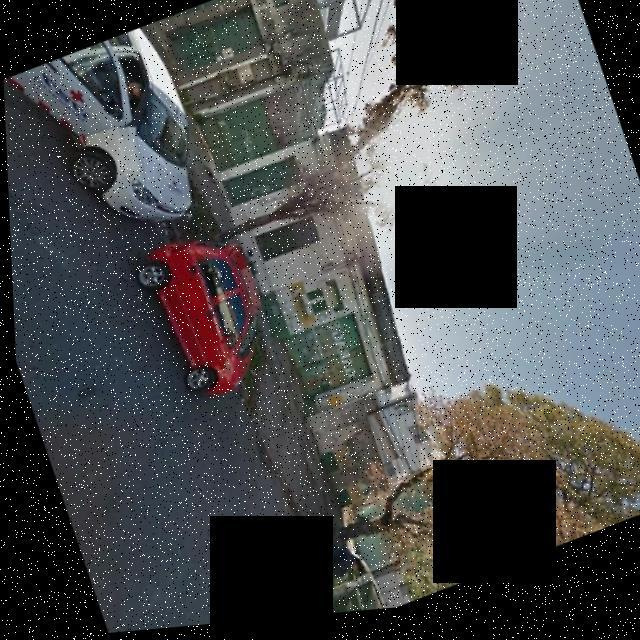bin: (275, 522, 384, 622)
